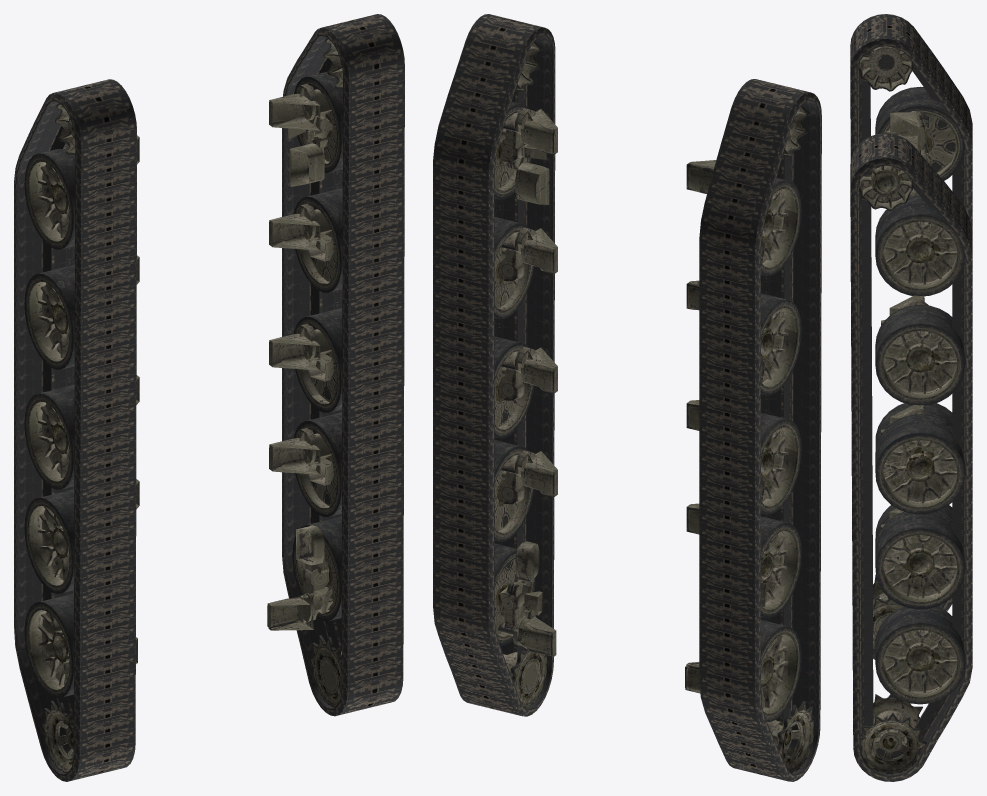
Rendered from Chassis.glb.
3 views of the same model, side by side, from view 1: azimuth 30°, elevation 25°; view 2: azimuth 150°, elevation 25°; view 3: azimuth 270°, elevation 25° (orthographic). The views are drawn at different scales.
Parts seen in each view (by area): view 1: set_0_group_0, set_1_group_0, set_3_group_0, set_2_group_0; view 2: set_0_group_0, set_1_group_0, set_3_group_0, set_2_group_0; view 3: set_3_group_0, set_1_group_0, set_2_group_0, set_0_group_0.
Part boxes in pixels (x1,y1,x2,y2): set_0_group_0: (14,79,136,781); set_1_group_0: (282,14,404,716); set_3_group_0: (267,38,342,707); set_2_group_0: (24,103,139,773); set_0_group_0: (699,79,821,781); set_1_group_0: (433,14,555,716); set_3_group_0: (494,38,557,714); set_2_group_0: (685,102,813,773); set_3_group_0: (858,165,965,774); set_1_group_0: (850,133,972,781); set_2_group_0: (858,46,964,649); set_0_group_0: (850,14,972,659).
Size of the model in its own units: 3.14 by 6.28 by 1.12.
4 materials, 4 textured.
